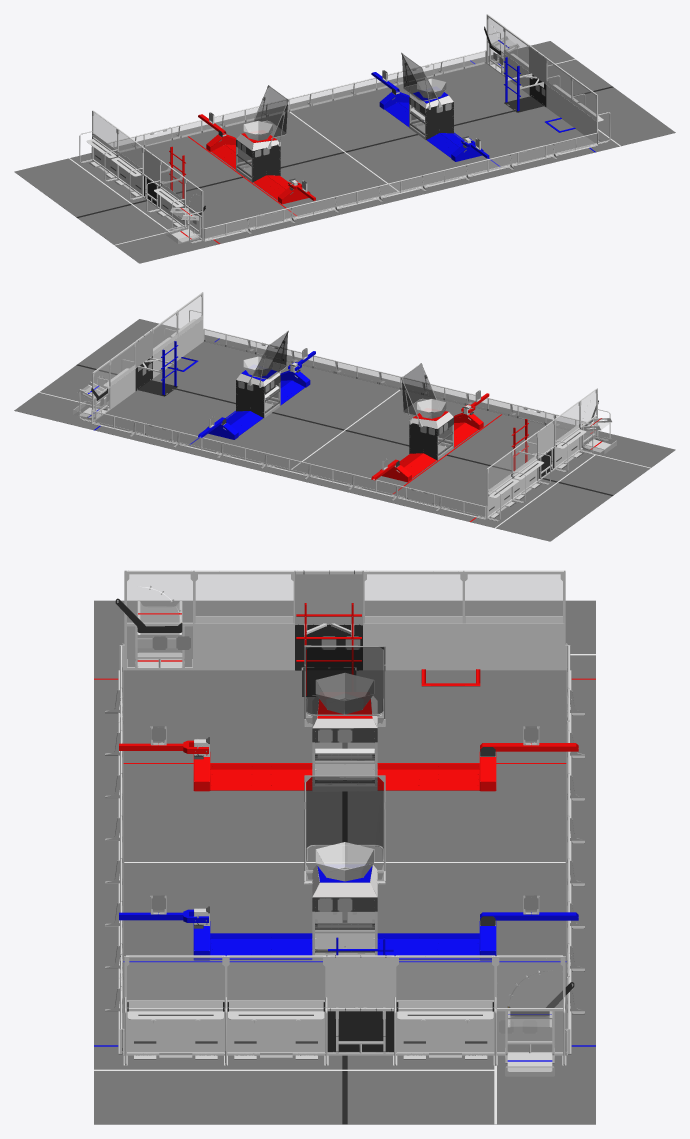
Rendered from field.glb.
3 renders of one model, top to bottom at view 1: azimuth 30°, elevation 25°; view 2: azimuth 150°, elevation 25°; view 3: azimuth 270°, elevation 25°, orthographic. The views are drawn at different scales.
Parts seen in each view (by area): view 1: FE-2026-01: Playing Field Carpet, GE-26511-Vinyl: Tower Upper Plastic Vinyl, GE-26107: Bump Pin, Gaffer Tape, Black, 4in Wide, 888in Long, Gaffer Tape, Red, 2in Wide, 317.19in Long, Gaffer Tape, Blue, 2in Wide, 17.63in Long, GE-26318: Hub Net (Aesthetic), GE-26216-01: Trench Arm Pin Body, Gaffer Tape, White, 2in Wide, 316.19in Long, GE-26329: Hub Funnel Side, GE-26207: Trench Hinged Riser Top Assy <1>, FE-00083-ID16-Vinyl: AprilTag Vinyl (+2 smaller); view 2: FE-2026-01: Playing Field Carpet, GE-26511-Vinyl: Tower Upper Plastic Vinyl, GE-26107: Bump Pin, Gaffer Tape, Black, 4in Wide, 888in Long, Gaffer Tape, Red, 2in Wide, 317.19in Long, Gaffer Tape, Blue, 2in Wide, 17.63in Long, GE-26318: Hub Net (Aesthetic), GE-26216-01: Trench Arm Pin Body, Gaffer Tape, White, 2in Wide, 316.19in Long, GE-26329: Hub Funnel Side, GE-26207: Trench Hinged Riser Top Assy <1>, FE-00083-ID16-Vinyl: AprilTag Vinyl (+2 smaller); view 3: FE-2026-01: Playing Field Carpet, GE-26107: Bump Pin, GE-26511-Vinyl: Tower Upper Plastic Vinyl, Gaffer Tape, Red, 2in Wide, 317.19in Long, GE-26318: Hub Net (Aesthetic), Gaffer Tape, Blue, 2in Wide, 17.63in Long, Gaffer Tape, Black, 4in Wide, 888in Long, GE-26216-01: Trench Arm Pin Body, Gaffer Tape, White, 2in Wide, 316.19in Long, GE-26329: Hub Funnel Side, GE-26207: Trench Hinged Riser Top Assy <1>, FE-00083-ID16-Vinyl: AprilTag Vinyl (+4 smaller).
Part boxes in pixels (x1,y1,x2,y2): FE-2026-01: Playing Field Carpet: (14,41,675,263); GE-26511-Vinyl: Tower Upper Plastic Vinyl: (94,16,596,243); GE-26107: Bump Pin: (79,14,610,243); Gaffer Tape, Black, 4in Wide, 888in Long: (76,26,613,217); Gaffer Tape, Red, 2in Wide, 317.19in Long: (169,114,315,243); Gaffer Tape, Blue, 2in Wide, 17.63in Long: (371,40,595,166); GE-26318: Hub Net (Aesthetic): (254,54,436,137); GE-26216-01: Trench Arm Pin Body: (132,53,557,240); Gaffer Tape, White, 2in Wide, 316.19in Long: (69,50,620,245); GE-26329: Hub Funnel Side: (243,78,446,140); GE-26207: Trench Hinged Riser Top Assy <1>: (86,53,603,207); FE-00083-ID16-Vinyl: AprilTag Vinyl: (145,52,545,226); FE-2026-01: Playing Field Carpet: (14,319,675,541); GE-26511-Vinyl: Tower Upper Plastic Vinyl: (73,295,616,516); GE-26107: Bump Pin: (77,292,611,521); Gaffer Tape, Black, 4in Wide, 888in Long: (76,331,613,496); Gaffer Tape, Red, 2in Wide, 317.19in Long: (371,393,601,521); Gaffer Tape, Blue, 2in Wide, 17.63in Long: (88,338,315,444); GE-26318: Hub Net (Aesthetic): (253,332,435,415); GE-26216-01: Trench Arm Pin Body: (87,331,602,511); Gaffer Tape, White, 2in Wide, 316.19in Long: (39,315,650,528); GE-26329: Hub Funnel Side: (243,356,446,418); GE-26207: Trench Hinged Riser Top Assy <1>: (103,319,586,498); FE-00083-ID16-Vinyl: AprilTag Vinyl: (100,348,589,504); FE-2026-01: Playing Field Carpet: (94,600,595,1124); GE-26107: Bump Pin: (118,570,571,1071); GE-26511-Vinyl: Tower Upper Plastic Vinyl: (122,572,567,1076); Gaffer Tape, Red, 2in Wide, 317.19in Long: (94,603,595,791); GE-26318: Hub Net (Aesthetic): (306,647,383,848); Gaffer Tape, Blue, 2in Wide, 17.63in Long: (94,866,595,1061); Gaffer Tape, Black, 4in Wide, 888in Long: (116,570,574,1124); GE-26216-01: Trench Arm Pin Body: (105,645,584,1062); Gaffer Tape, White, 2in Wide, 316.19in Long: (94,616,595,1124); GE-26329: Hub Funnel Side: (315,673,374,881); GE-26207: Trench Hinged Riser Top Assy <1>: (127,699,493,1019); FE-00083-ID16-Vinyl: AprilTag Vinyl: (122,636,567,1033).
Size of the model in its own units: 22.56 by 3.06 by 9.14.
